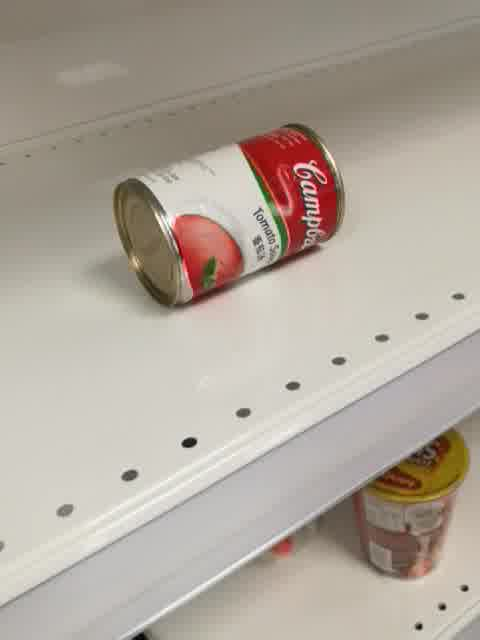tomatosoup: (110, 119, 348, 313)
